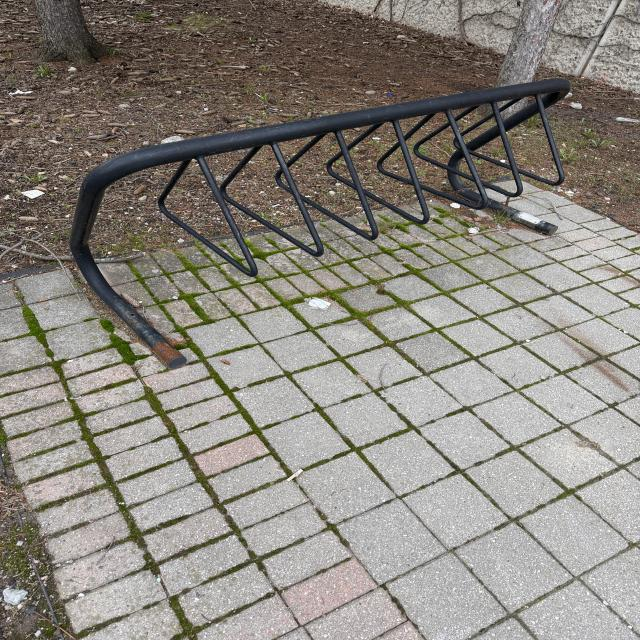Bicycle Rack: (67, 76, 578, 374)
